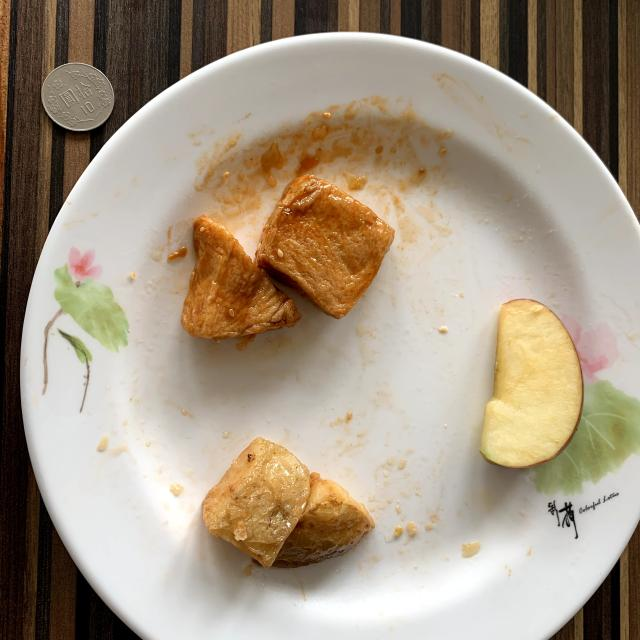apple -sliced-: (480, 299, 584, 468)
coin: (41, 62, 115, 131)
creamy tofu: (181, 175, 394, 350)
fried potato: (202, 438, 375, 569)
